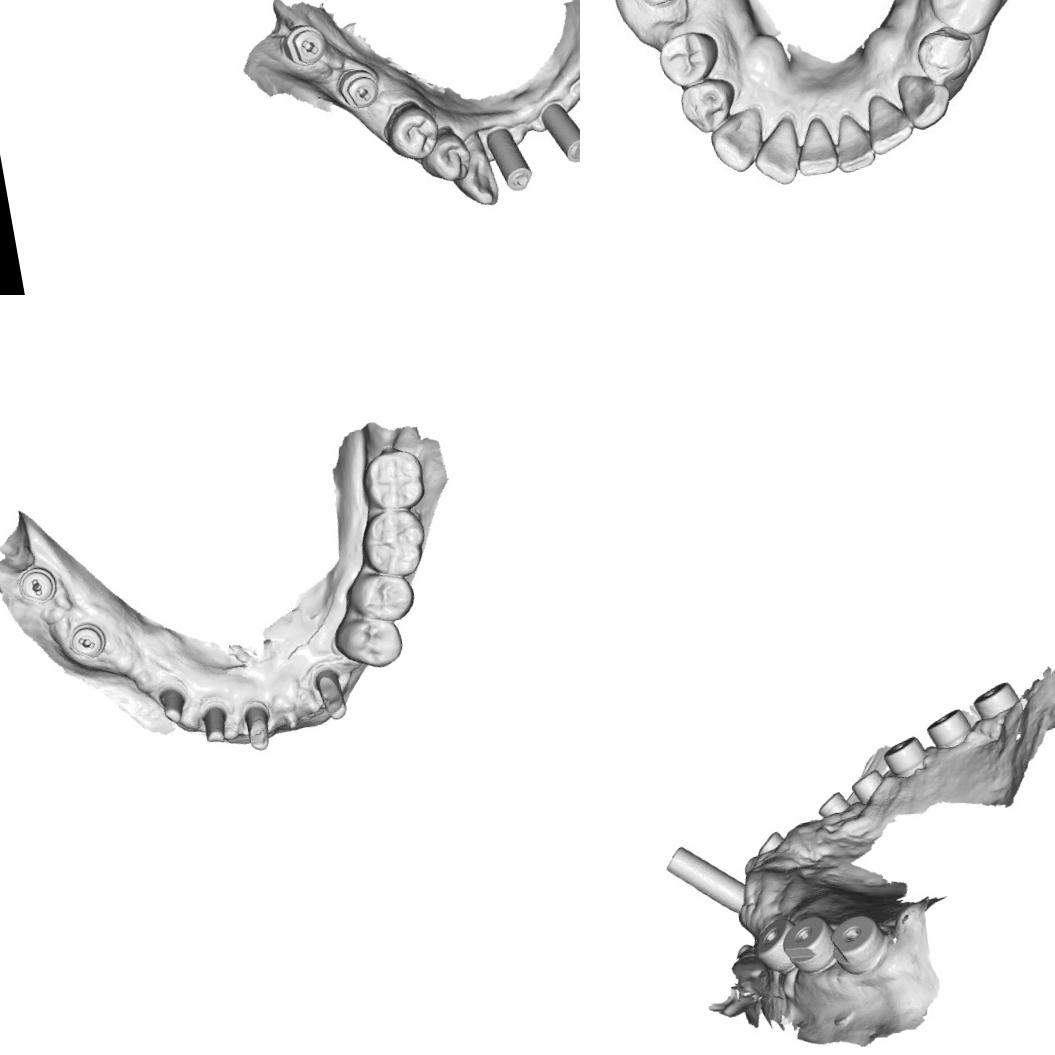abutment: (307, 660, 350, 724), (237, 697, 276, 755), (195, 697, 234, 747), (155, 681, 191, 726)
canine: (894, 67, 954, 137), (706, 112, 768, 178), (448, 142, 504, 212)
implant: (659, 830, 751, 924), (824, 910, 892, 980), (776, 910, 841, 982), (487, 122, 538, 196), (748, 915, 803, 981), (535, 95, 580, 170), (969, 676, 1022, 724), (878, 732, 932, 779), (924, 706, 974, 752), (848, 766, 890, 805), (814, 788, 850, 823), (752, 826, 788, 858), (641, 0, 679, 12)
implant_minus: (329, 59, 384, 117), (279, 16, 332, 75), (14, 562, 60, 608), (63, 618, 109, 662)
incisor: (860, 90, 916, 158), (826, 111, 878, 178), (790, 118, 842, 180), (750, 130, 800, 191)
molar: (354, 504, 431, 582), (356, 443, 428, 514), (915, 0, 1017, 41)
premolar: (328, 607, 406, 675), (341, 562, 418, 629), (376, 97, 446, 166), (910, 23, 979, 88), (654, 26, 718, 88), (418, 124, 474, 185), (676, 78, 734, 136)
